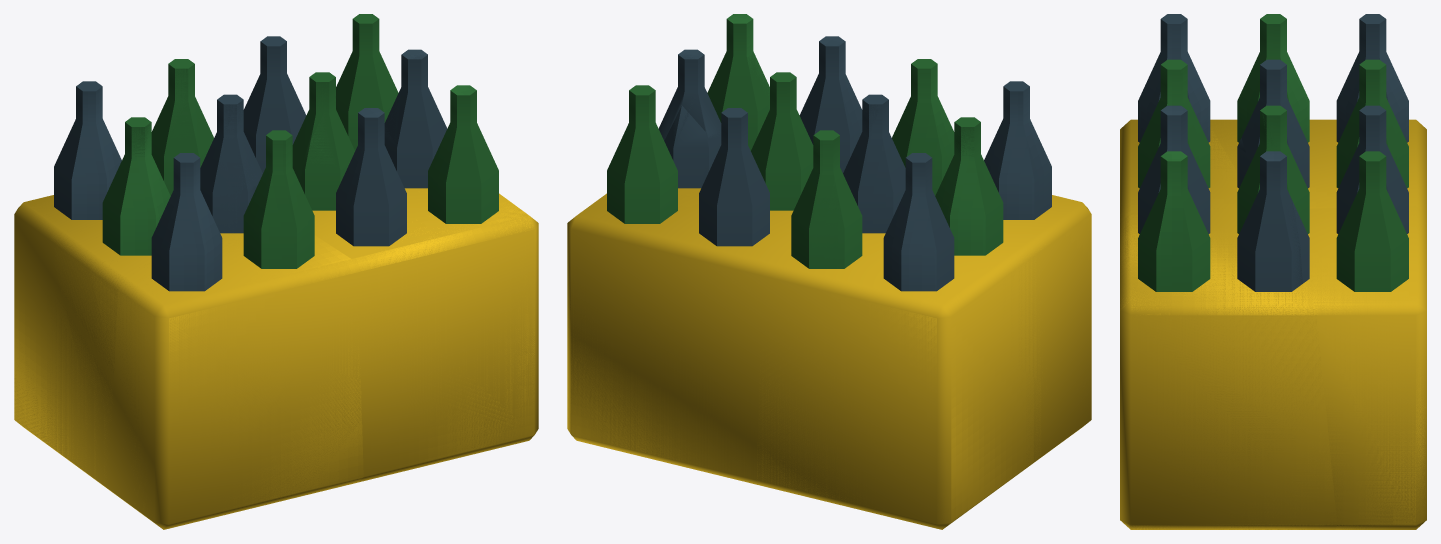
Rendered from engradado_garrafas.glb.
3 views of the same model, side by side, from view 1: azimuth 30°, elevation 25°; view 2: azimuth 150°, elevation 25°; view 3: azimuth 270°, elevation 25° (orthographic).
Parts seen in each view (by area): view 1: Inteiro, Peca_00, Peca_02, Peca_01, Peca_03; view 2: Inteiro, Peca_01, Peca_03, Peca_02; view 3: Inteiro, Peca_02, Peca_03, Peca_01, Peca_00.
Part boxes in pixels (<box>): Inteiro: <box>14,14,538,529</box>; Peca_00: <box>117,183,363,529</box>; Peca_02: <box>305,54,534,482</box>; Peca_01: <box>14,60,262,482</box>; Peca_03: <box>292,72,335,185</box>; Inteiro: <box>569,14,1091,529</box>; Peca_01: <box>756,96,1046,529</box>; Peca_03: <box>567,72,802,485</box>; Peca_02: <box>659,36,844,150</box>; Inteiro: <box>1120,14,1426,529</box>; Peca_02: <box>1120,113,1336,529</box>; Peca_03: <box>1262,106,1426,529</box>; Peca_01: <box>1210,101,1426,210</box>; Peca_00: <box>1120,119,1245,222</box>.
Size of the model in its own units: 0.5 by 0.43 by 0.34.
Materials: 1 (1 with a texture image).
